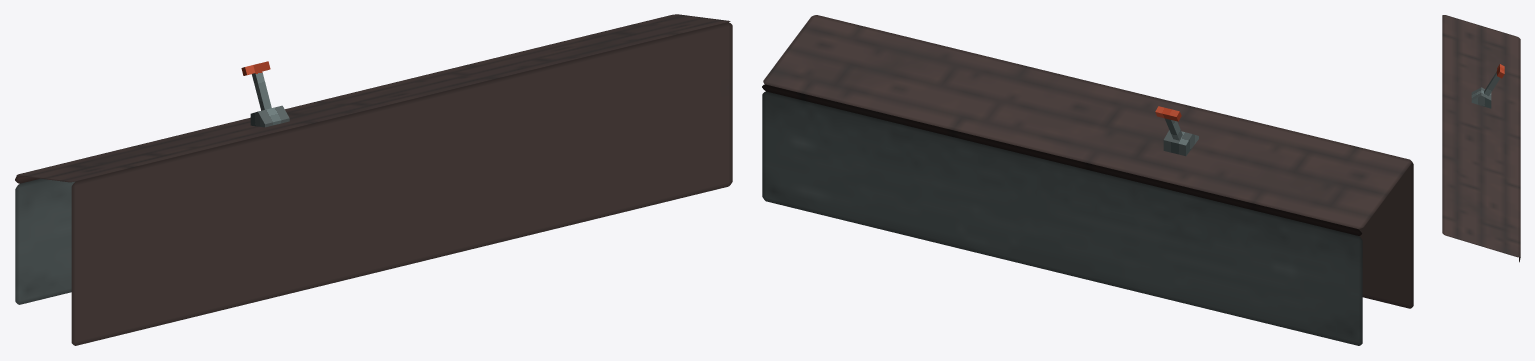
Rendered from ShipControlPanel.fbx.
3 views of the same model, side by side, from view 1: azimuth 30°, elevation 25°; view 2: azimuth 150°, elevation 25°; view 3: azimuth 270°, elevation 25° (orthographic). The views are drawn at different scales.
Visible parts, largest first — view 1: Table, Throttle; view 2: Table, Throttle; view 3: Table, Throttle.
Part boxes in pixels (x1,y1,x2,y2): Table: [15, 14, 732, 345]; Throttle: [241, 61, 289, 127]; Table: [762, 15, 1413, 345]; Throttle: [1155, 106, 1198, 156]; Table: [1442, 15, 1520, 262]; Throttle: [1471, 64, 1504, 108].
Bounding box in the file's own units: 500 × 142 × 75.
2 materials, 2 textured.
